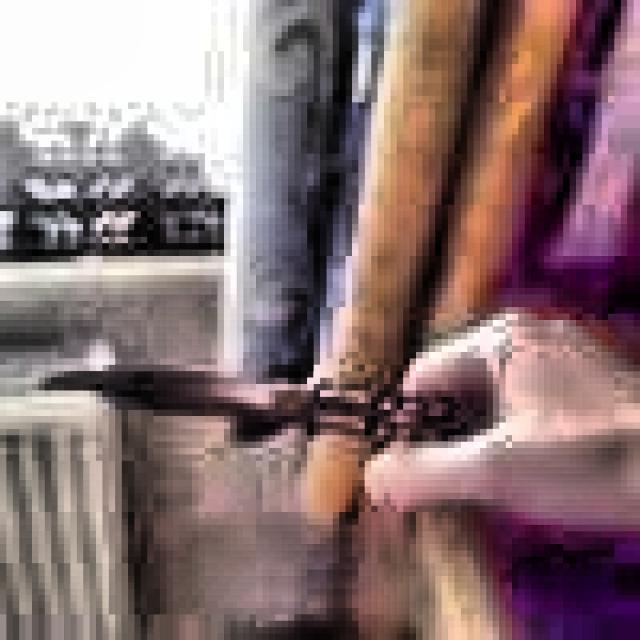knife: (42, 365, 490, 449)
